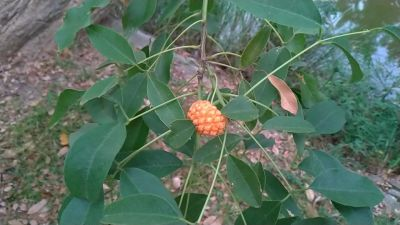eggs: (185, 95, 227, 137)
